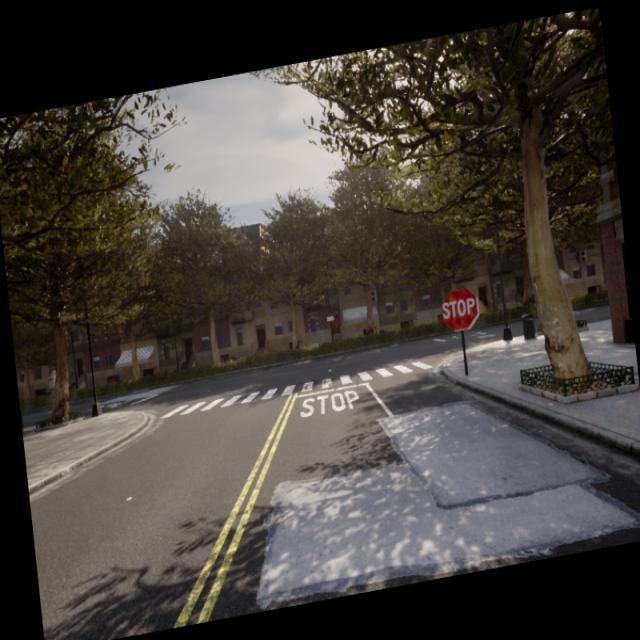stop sign: (439, 284, 481, 333)
